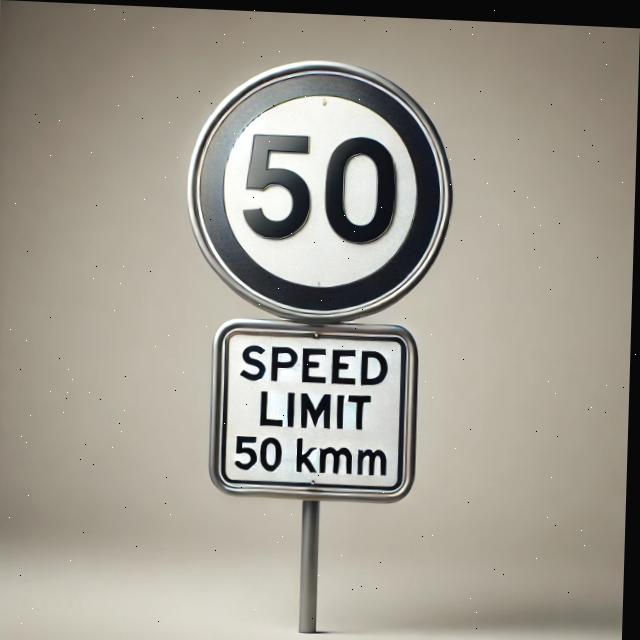Speed limit 50: (184, 51, 460, 325)
